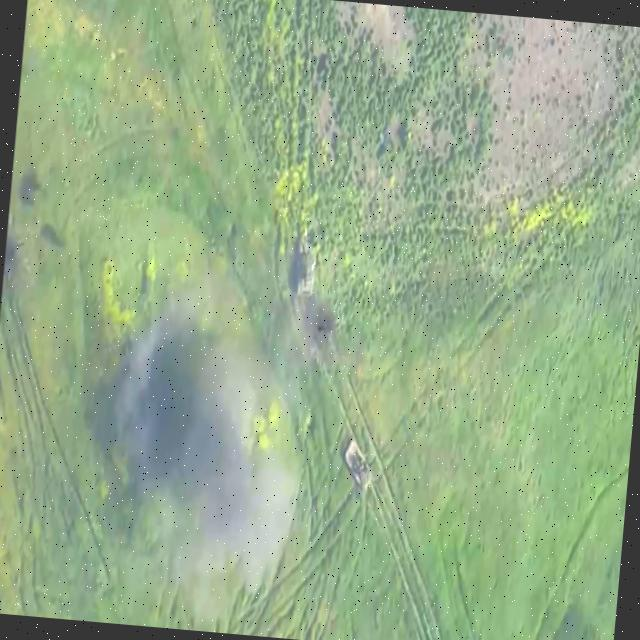AIFV: (340, 437, 375, 491)
MBT: (292, 221, 321, 301)
